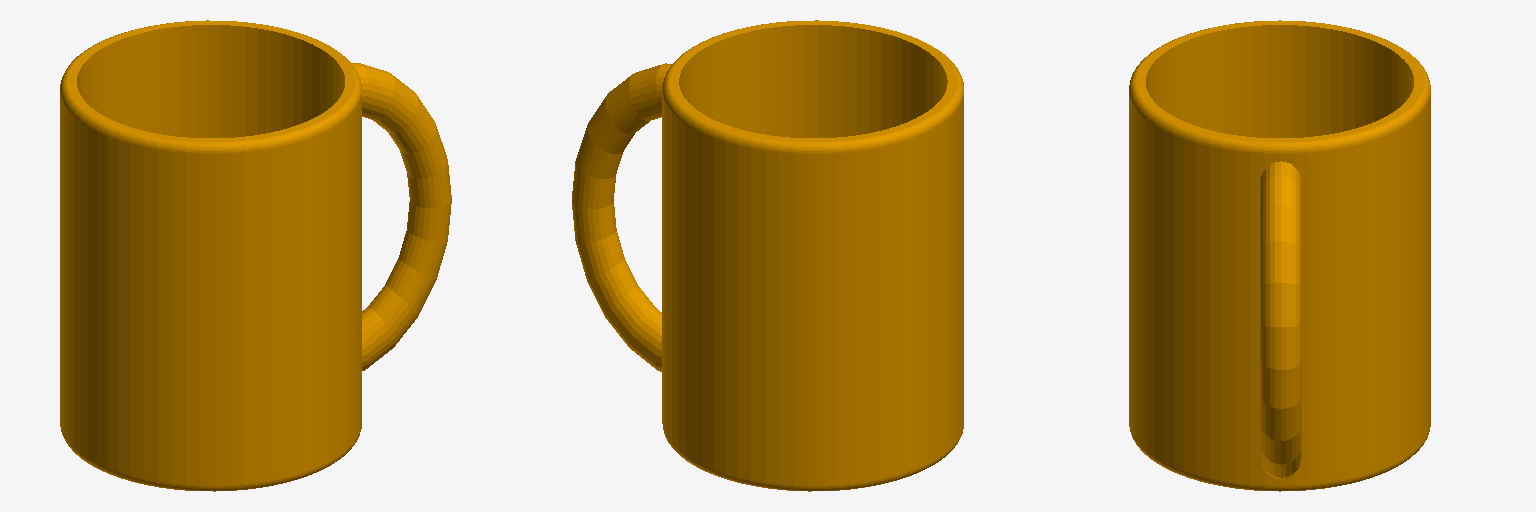
robot.urdf — object:
<?xml version="1.0"?>
<robot name="object">
  <link name="object">
    <visual>
      <origin xyz="0.0 0.0 0.0"/>
      <geometry>
        <mesh filename="mug.stl" scale="1.00 1.00 1.00"/>
      </geometry>
    </visual>
    <collision>
      <origin xyz="0.0 0.0 0.0"/>
      <geometry>
        <mesh filename="mug.stl" scale="1.00 1.00 1.00"/>
      </geometry>
    </collision>
  </link>
</robot>
    
                    

--- Render facts (derived) ---
Views: 3 orthographic renders of the robot side by side, from view 1: azimuth 30°, elevation 25°; view 2: azimuth 150°, elevation 25°; view 3: azimuth 270°, elevation 25°.
Robot: object — 1 links, 0 joints (none); root link object; default pose: all joints at 0.
Visible links, largest first — view 1: object; view 2: object; view 3: object.
Link boxes in pixels (left/top/right/bottom): object: left=60, top=20, right=451, bottom=491; object: left=572, top=20, right=963, bottom=491; object: left=1129, top=20, right=1430, bottom=491.
Size in the robot's own frame: 0.1159 by 0.0821 by 0.1045 metres.
1 mesh visuals loaded from 1 distinct referenced files (1 binary STL).
